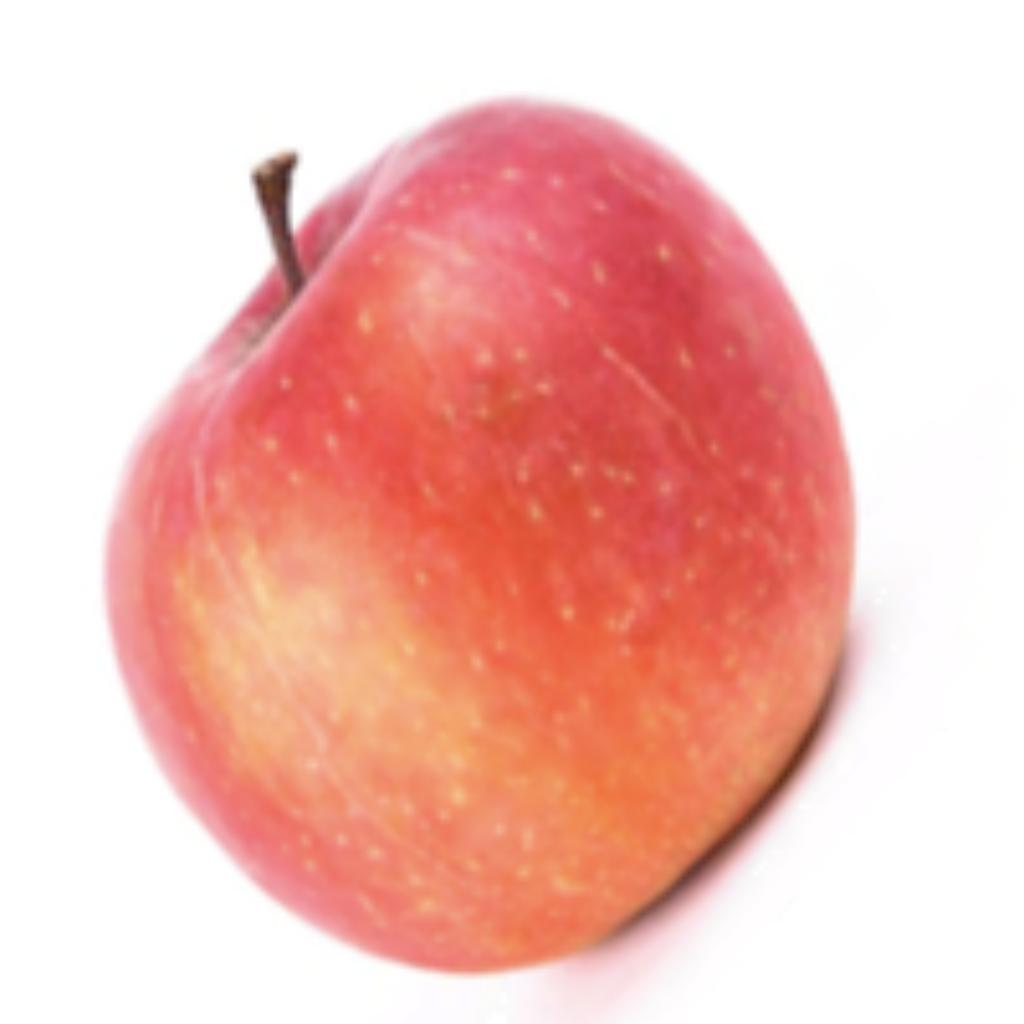apple: (92, 87, 891, 988)
